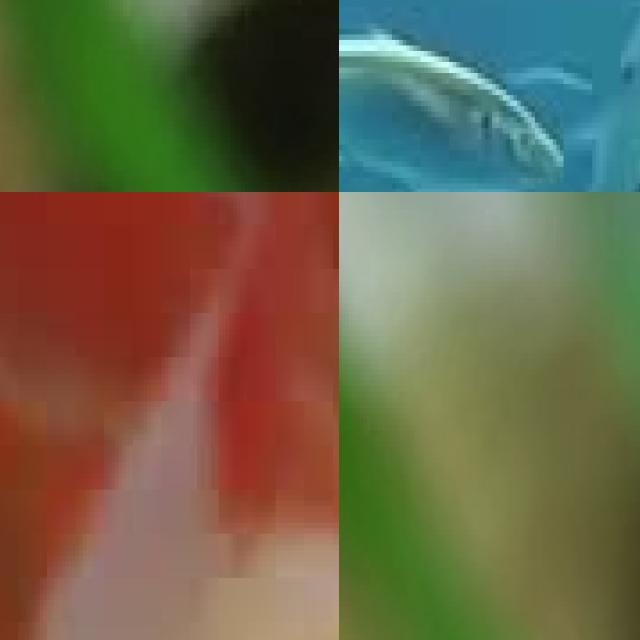fish: (0, 192, 339, 640), (0, 0, 339, 192)
